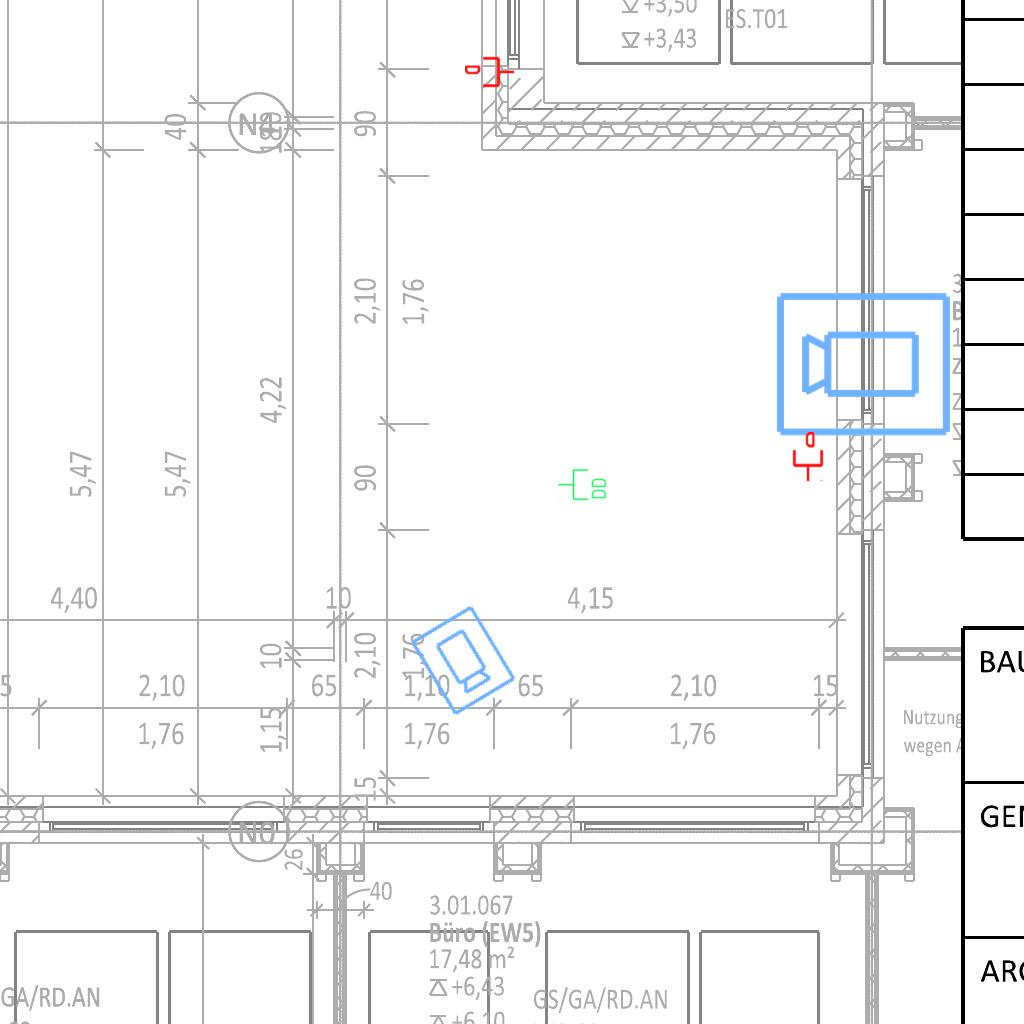Datenanschluss_einfach: (465, 55, 515, 89), (791, 432, 825, 482)
Datenanschluss_zweifach: (557, 468, 608, 502)
KFO_Kamera_mit_Festobjektiv: (773, 286, 955, 440), (406, 601, 519, 720)
